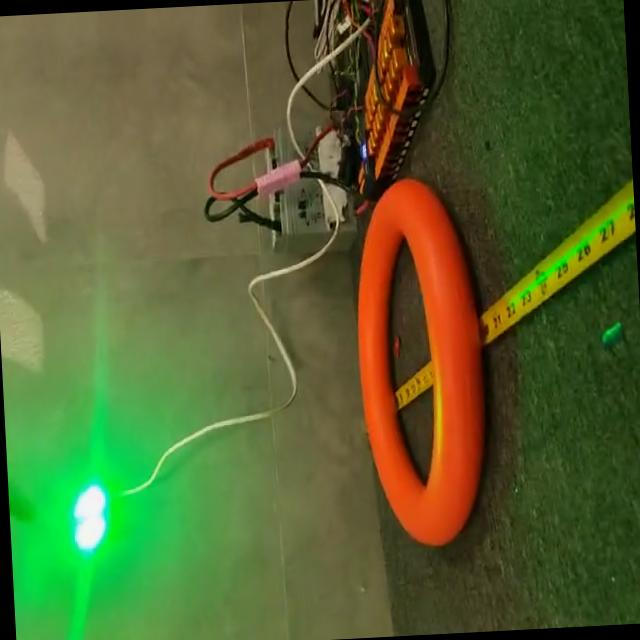note: (344, 165, 503, 560)
